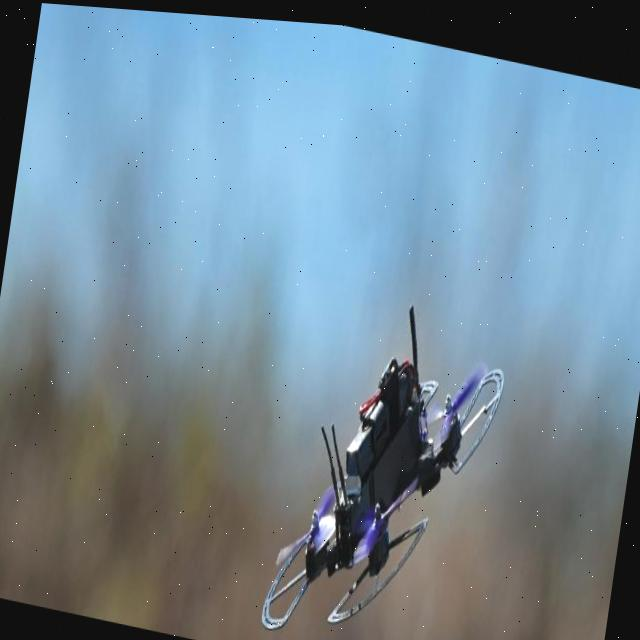drone: (249, 273, 532, 640)
